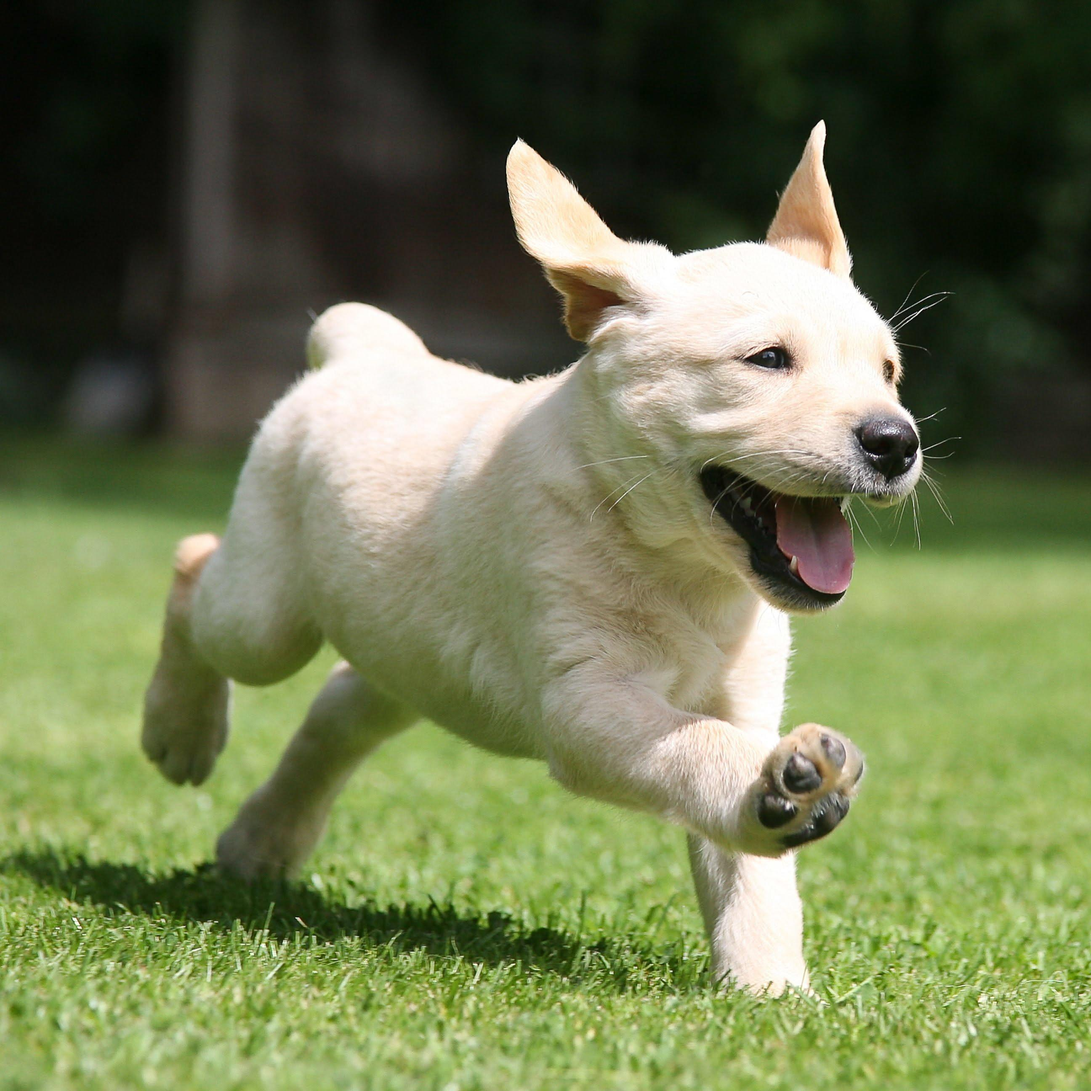puppy-dog: (133, 114, 939, 1007)
